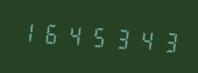five: (86, 19, 108, 53)
four: (63, 17, 85, 52), (132, 22, 154, 56)
one: (17, 14, 39, 48)
six: (40, 15, 62, 50)
three: (109, 20, 131, 55), (155, 24, 177, 58)
